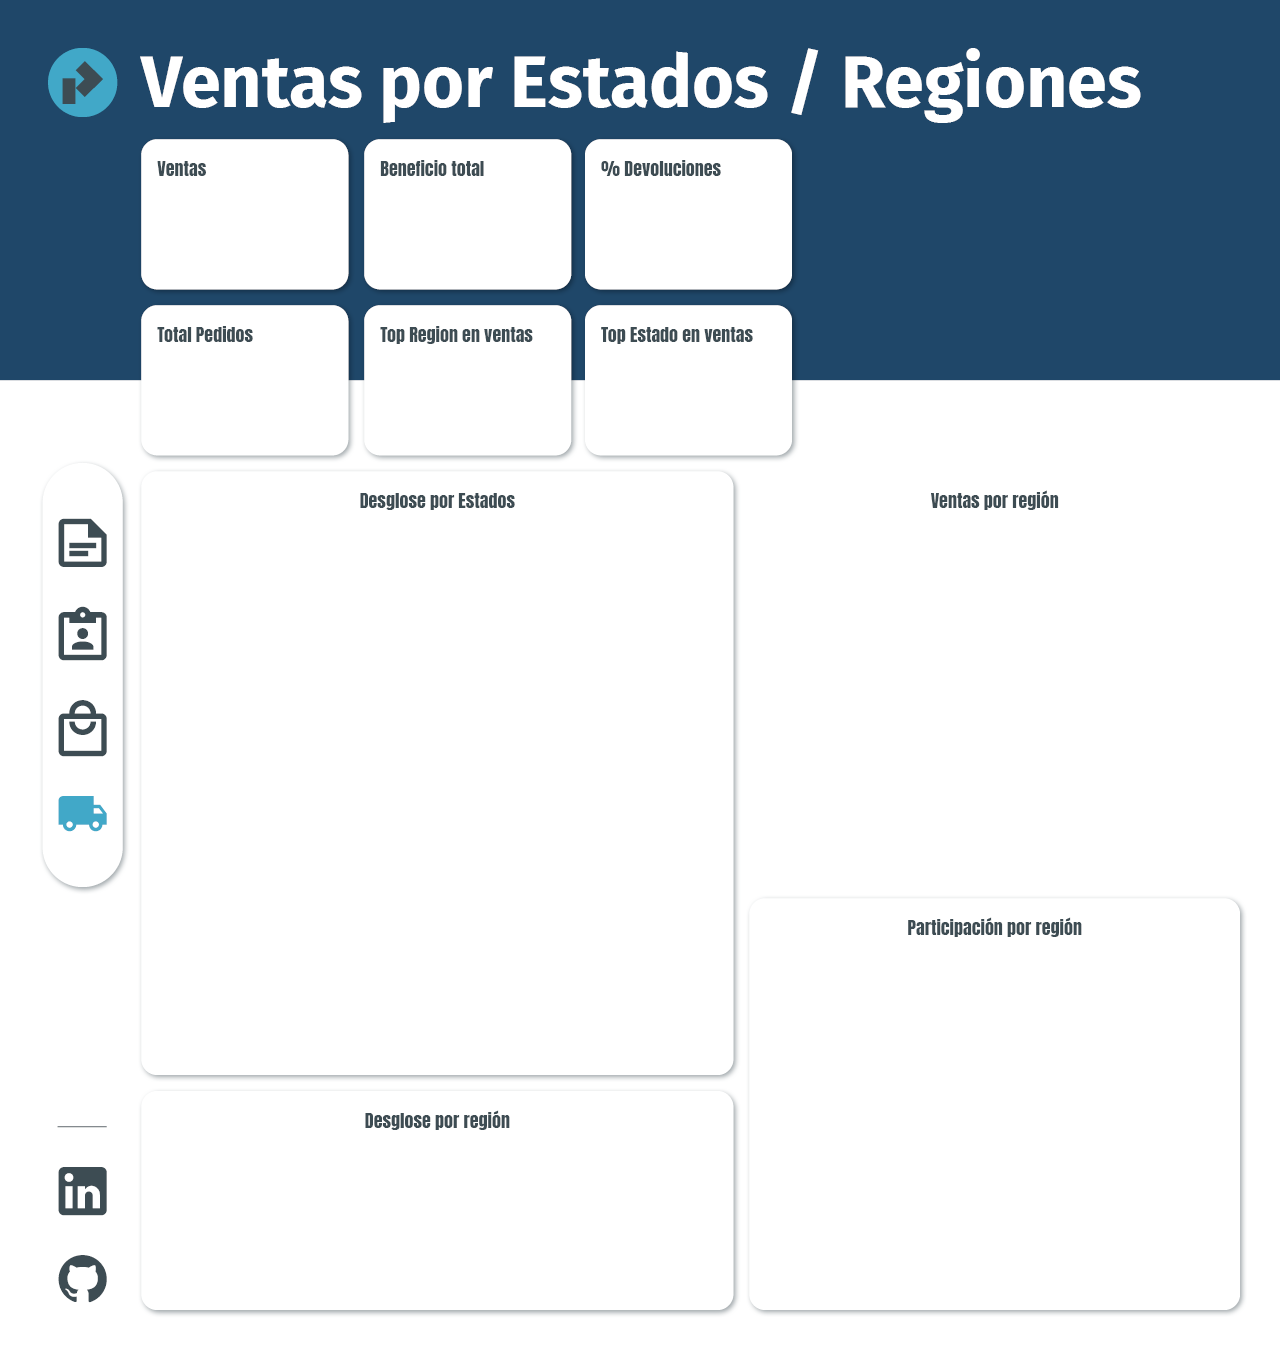

What the dashboard file says about the page in this screenshot:
{"tool":"powerbi","page":{"name":"Regiones","canvas":[1280,1350],"ordinal":4},"visuals":[{"type":"actionButton","box":[53.3,510,58.9,62.2],"z":0},{"type":"actionButton","box":[53.3,604.4,58.9,62.2],"z":1000},{"type":"actionButton","box":[53.3,695.6,58.9,62.2],"z":2000},{"type":"actionButton","box":[53.3,778.9,58.9,62.2],"z":3000},{"type":"advancedSlicerVisual","fields":{"Values":["dimCalendario.Año"]},"box":[908.3,136.7,333.3,90],"z":4000},{"type":"slicer","fields":{"Values":["dimProducto.Category"]},"box":[908.3,243.3,333.3,90],"z":5000},{"type":"card","fields":{"Values":["Medidas.VENTAS"]},"box":[140,136.7,208.9,152.2],"z":6000},{"type":"card","fields":{"Values":["Medidas.GANANCIA"]},"box":[363.3,136.7,208.3,151.7],"z":7000},{"type":"card","fields":{"Values":["Medidas.DEVOLUCIONES %"]},"box":[583.3,136.7,208.3,151.7],"z":8000},{"type":"card","fields":{"Values":["Medidas.TOP ESTADO MAS VENDIDO"]},"box":[583.3,303.3,208.9,151.1],"z":9000},{"type":"card","fields":{"Values":["Medidas.TRANSACCIONES"]},"box":[140,303.3,210,151.1],"z":10000},{"type":"shapeMap","fields":{"Category":["dimRegion.State"],"Value":["Medidas.VENTAS"]},"box":[752.9,510,488.6,370],"z":11000},{"type":"treemap","fields":{"Group":["dimRegion.Region"],"Values":["Medidas.GANANCIA"]},"box":[760,938.3,473.3,366.7],"z":12000},{"type":"card","fields":{"Values":["Medidas.TOP REGION MAS VENDIDA"]},"box":[361.7,301.7,208.3,151.7],"z":13000},{"type":"tableEx","fields":{"Values":["dimRegion.State","Medidas.VENTAS","Medidas.GANANCIA","Medidas.DEVOLUCIONES %"]},"box":[140,510,591.7,556.7],"z":14000},{"type":"tableEx","fields":{"Values":["dimRegion.Region","Medidas.VENTAS","Medidas.GANANCIA","Medidas.DEVOLUCIONES %"]},"box":[140,1121.7,591.7,183.3],"z":15000}]}

Visuals, with their boxes in screenshot pixels (x1, y1, x2, y2), scaled from the page's 1280x1350 canvas onto the 1280x1350 screenshot:
actionButton: [left=53, top=510, right=112, bottom=572]
actionButton: [left=53, top=604, right=112, bottom=667]
actionButton: [left=53, top=696, right=112, bottom=758]
actionButton: [left=53, top=779, right=112, bottom=841]
advancedSlicerVisual - dimCalendario.Año: [left=908, top=137, right=1242, bottom=227]
slicer - dimProducto.Category: [left=908, top=243, right=1242, bottom=333]
card - Medidas.VENTAS: [left=140, top=137, right=349, bottom=289]
card - Medidas.GANANCIA: [left=363, top=137, right=572, bottom=288]
card - Medidas.DEVOLUCIONES %: [left=583, top=137, right=792, bottom=288]
card - Medidas.TOP ESTADO MAS VENDIDO: [left=583, top=303, right=792, bottom=454]
card - Medidas.TRANSACCIONES: [left=140, top=303, right=350, bottom=454]
shapeMap - dimRegion.State x Medidas.VENTAS: [left=753, top=510, right=1242, bottom=880]
treemap - dimRegion.Region x Medidas.GANANCIA: [left=760, top=938, right=1233, bottom=1305]
card - Medidas.TOP REGION MAS VENDIDA: [left=362, top=302, right=570, bottom=453]
tableEx - dimRegion.State x Medidas.VENTAS: [left=140, top=510, right=732, bottom=1067]
tableEx - dimRegion.Region x Medidas.VENTAS: [left=140, top=1122, right=732, bottom=1305]
